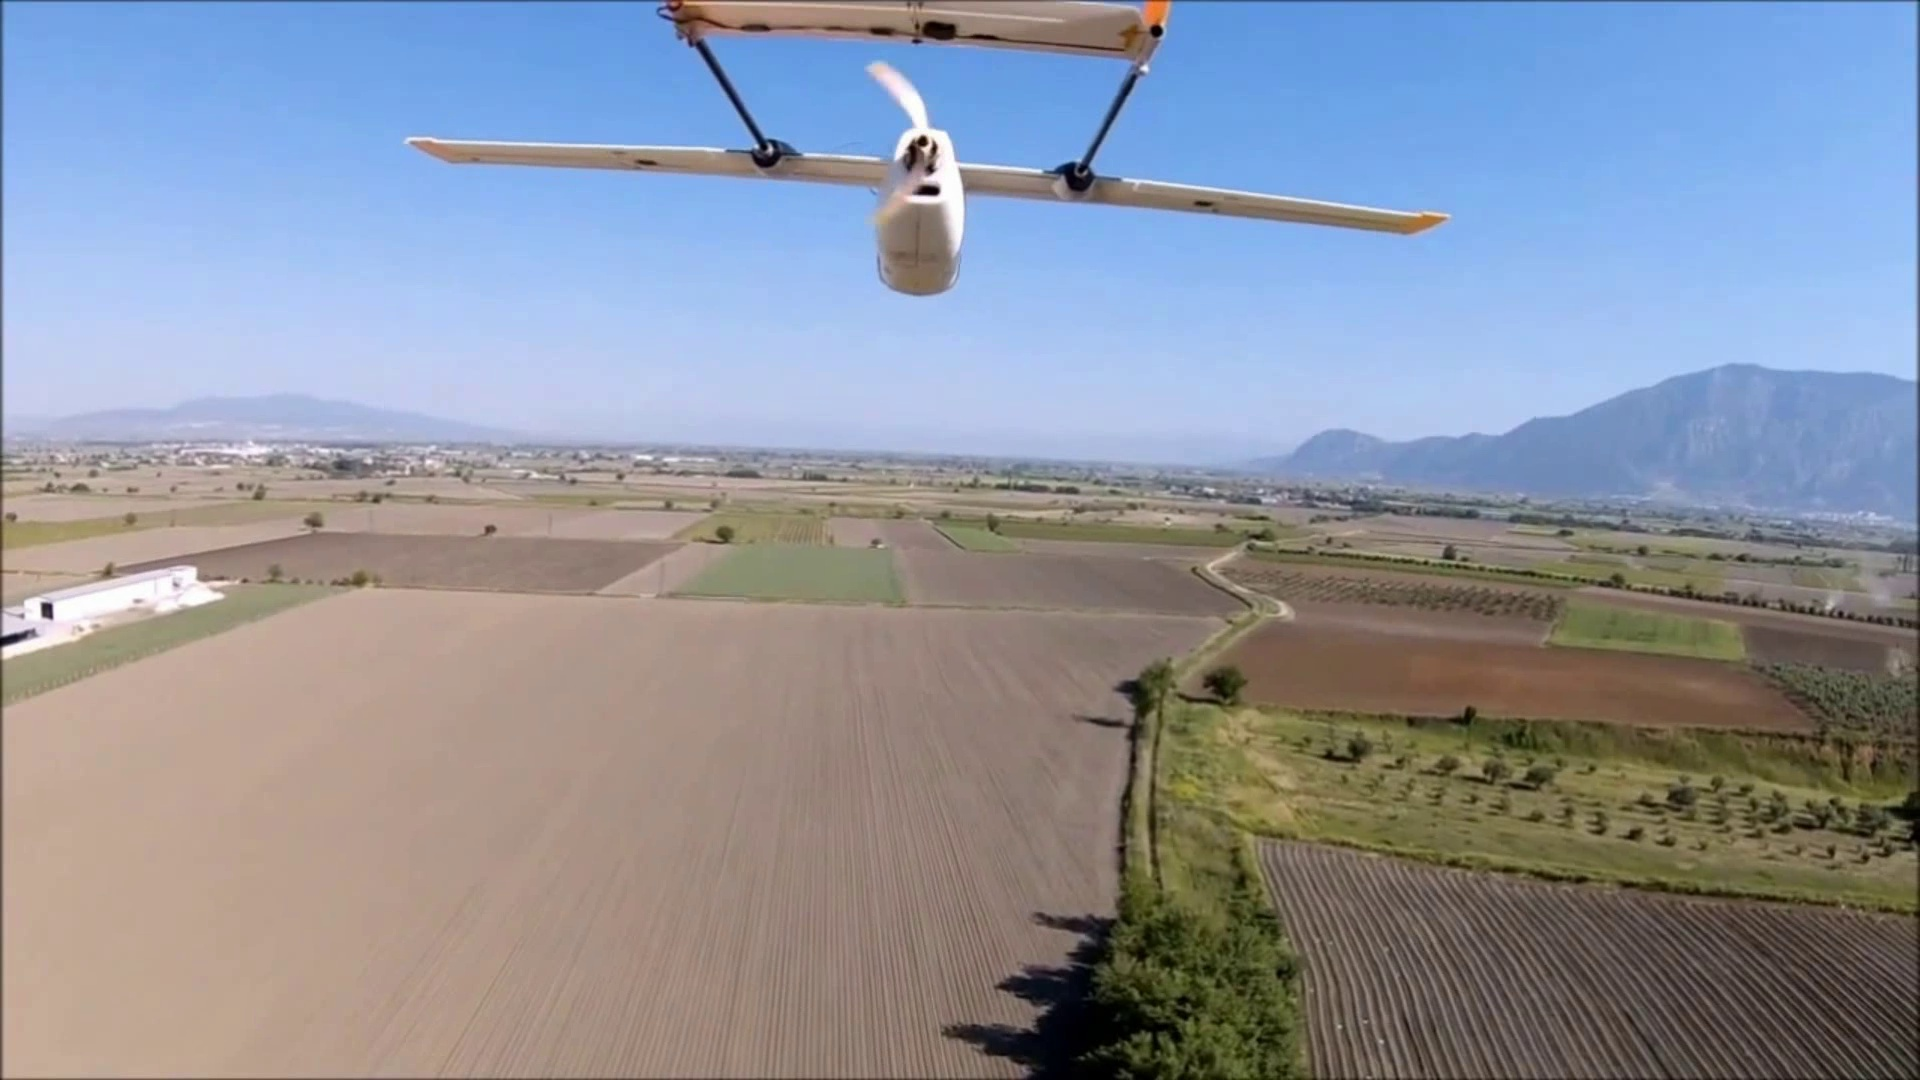airplane: (407, 5, 1447, 294)
